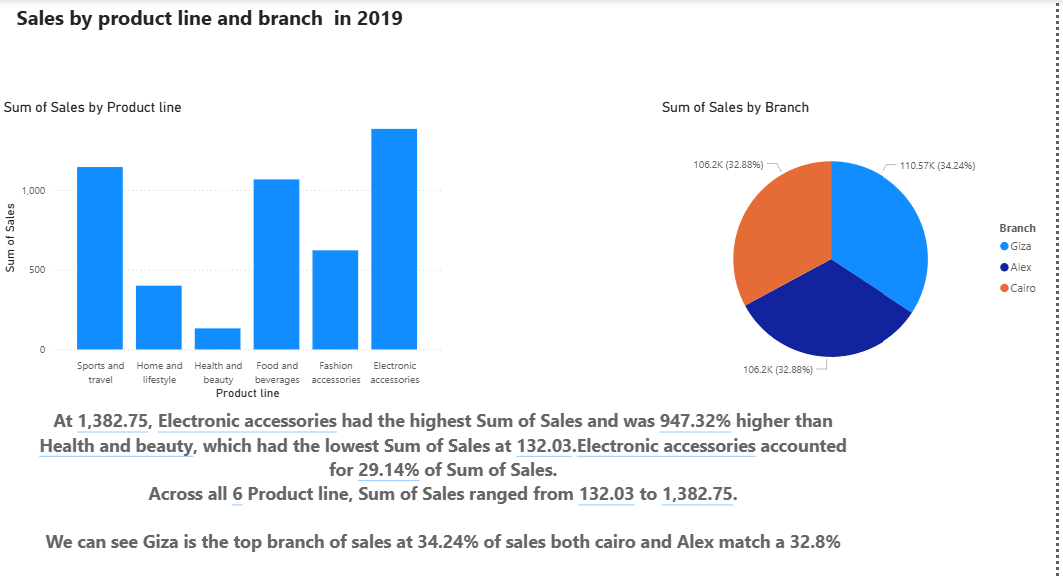

This screenshot's page, from the dashboard's own definition file:
{"tool":"powerbi","page":{"name":"Page 4","canvas":[1280,720],"ordinal":3},"visuals":[{"type":"pieChart","fields":{"Category":["SuperMarket Gender.Branch"],"Y":["Sum(SuperMarket Gender.Sales)"]},"box":[800,119.6,480.4,366.7],"z":1000},{"type":"lineStackedColumnComboChart","fields":{"Category":["SuperMarket Gender.Product line"],"Y":["Sum(SuperMarket Gender.Sales)"]},"box":[9.8,119.6,537.3,366.7],"z":2000},{"type":"textbox","box":[25.5,0,884.3,60.8],"z":2001},{"type":"textbox","box":[41.2,486.3,1000,233.3],"z":2002}]}

Visuals, with their boxes on the page's 1280x720 design canvas (x1, y1, x2, y2). These are canvas units, not pixel positions in the 1063x578 screenshot, which may show the page scaled, cropped or inside an application window:
pieChart - SuperMarket Gender.Branch x Sum(SuperMarket Gender.Sales): (800,120,1280,486)
lineStackedColumnComboChart - SuperMarket Gender.Product line x Sum(SuperMarket Gender.Sales): (10,120,547,486)
textbox: (26,0,910,61)
textbox: (41,486,1041,720)
